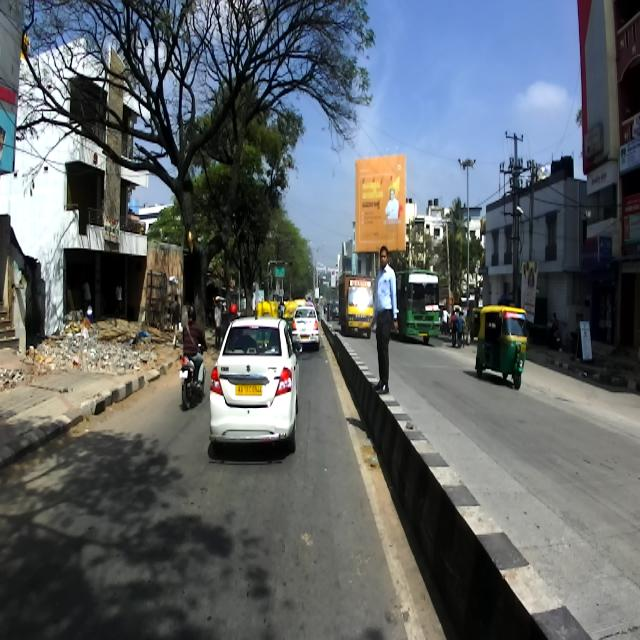car ahead at: (208, 314, 306, 471)
motorcycle ahead at: (175, 350, 208, 408)
person ahead at: (371, 244, 402, 393)
